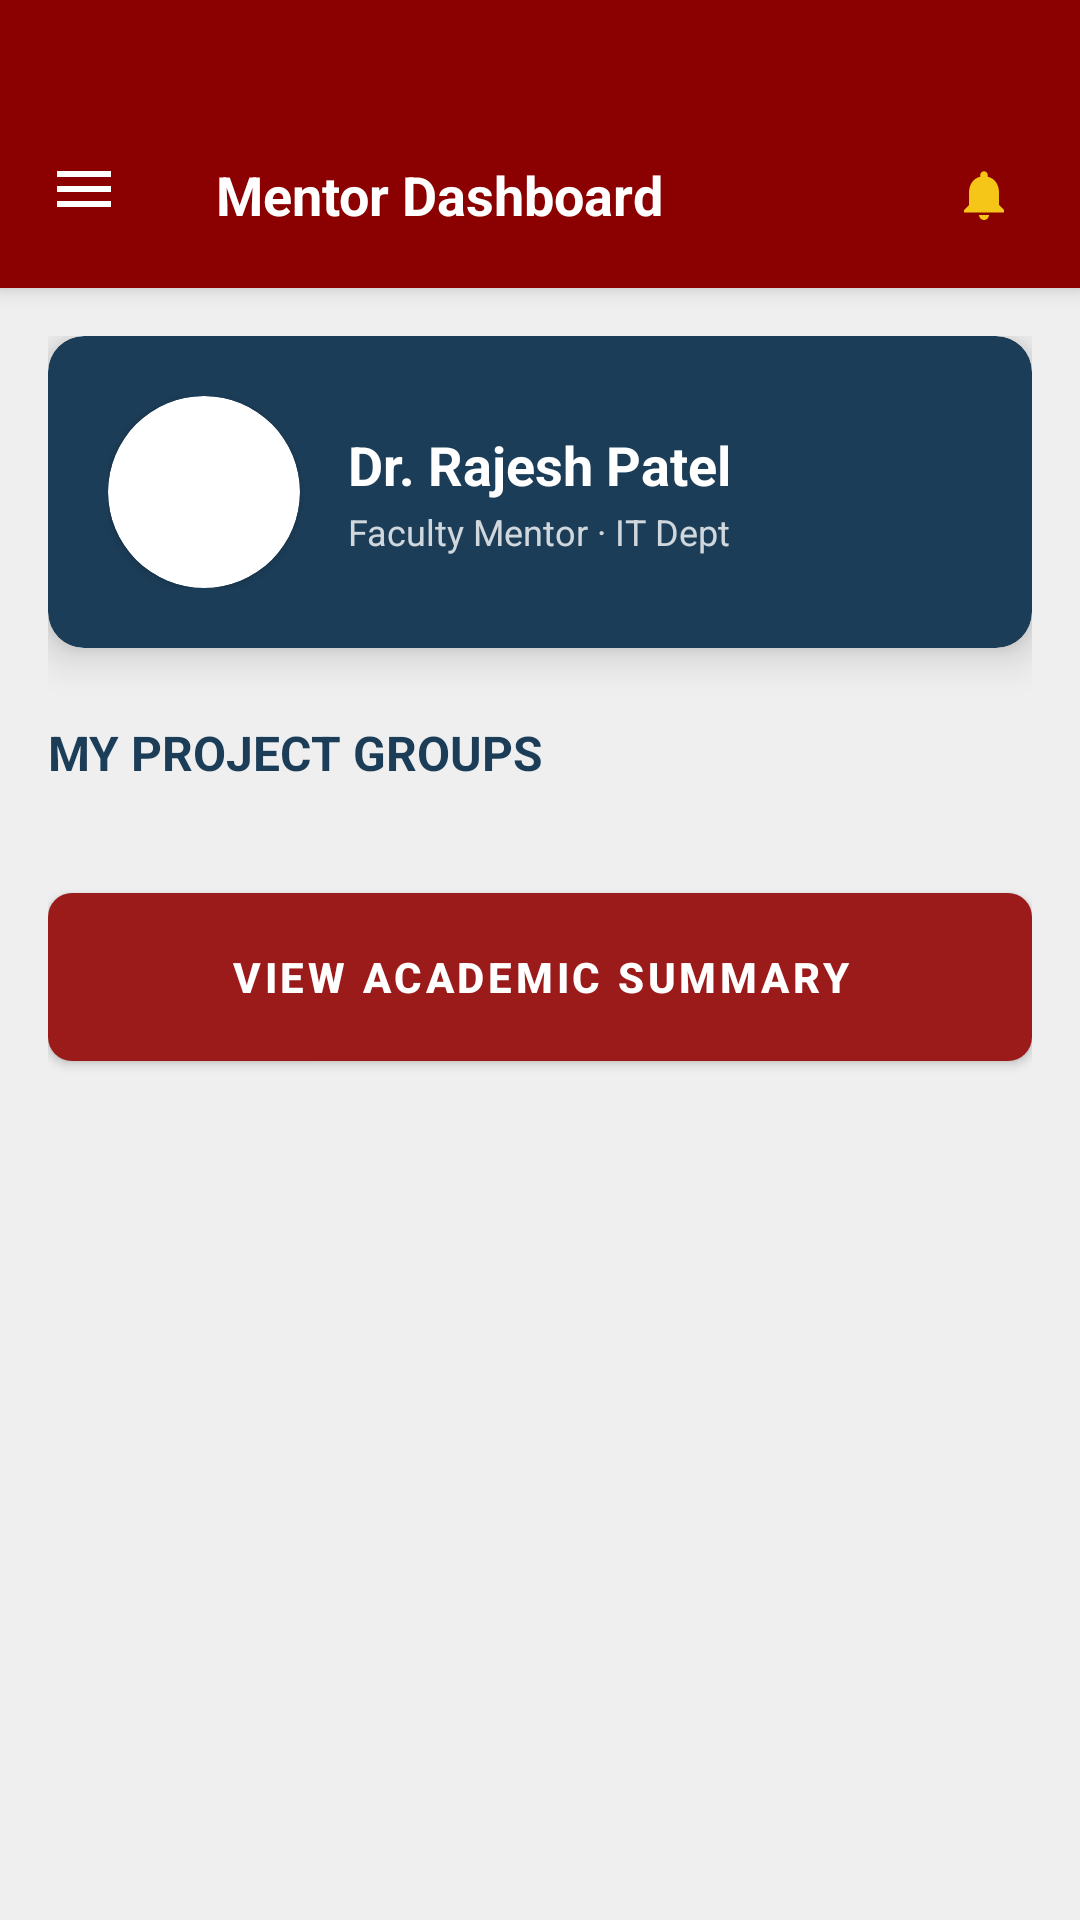

Where to tap for icons on this 1080 × 1920 app screen, as [x,y]:
bell: [984,195]
